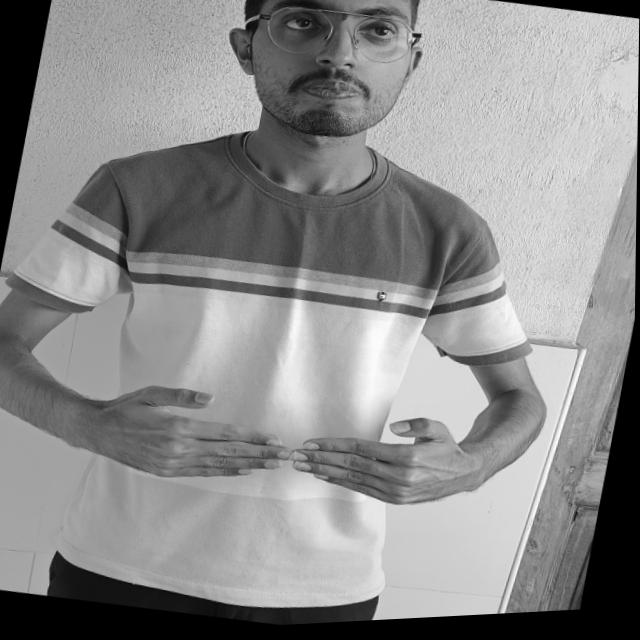Night: (55, 335, 508, 573)
